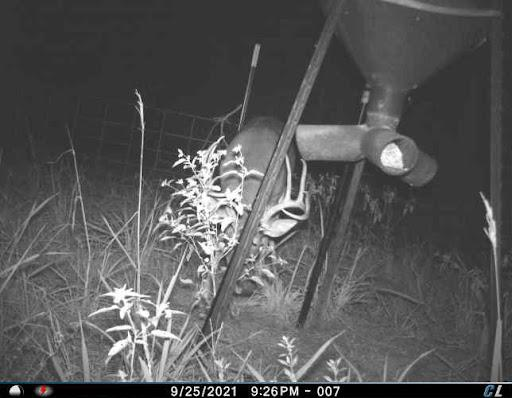Deer: (214, 107, 308, 293)
